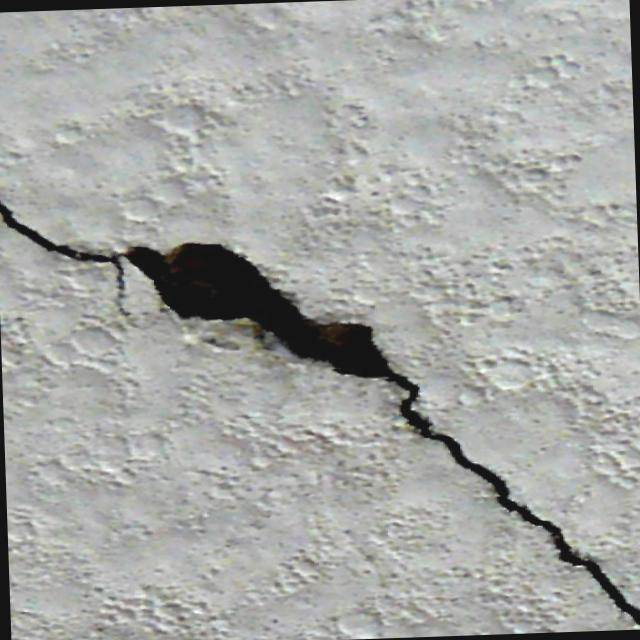crack: (0, 183, 421, 411), (398, 390, 640, 635)
